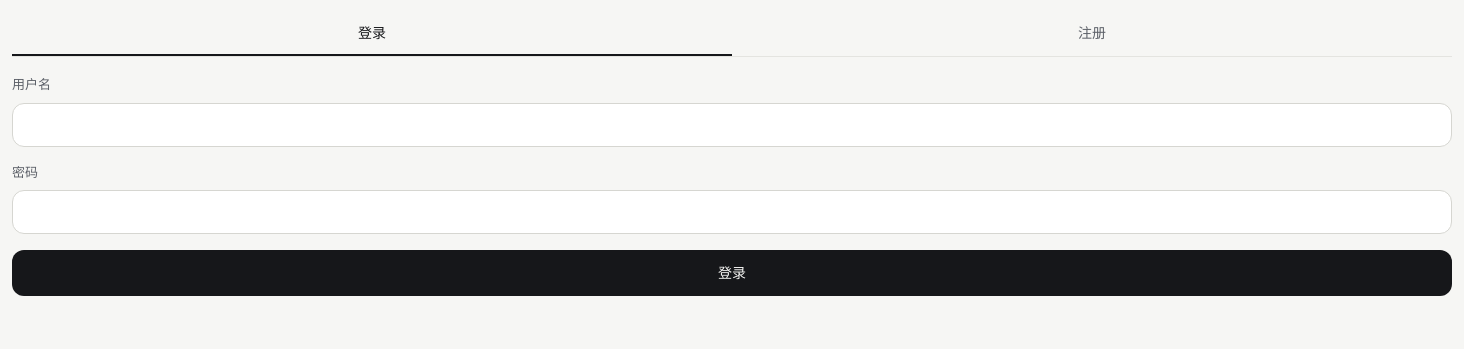
Test: shared login/register form › validates has space / password length before fetching
Type "has space" into the field labelled "用户名".
click(732, 124); type("has space")  # box [12,102,1452,146]
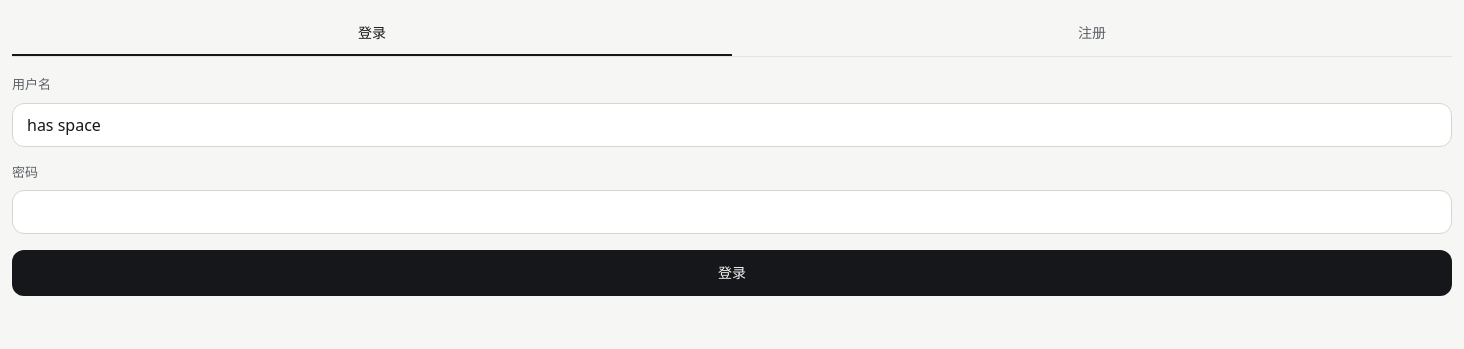
Type "12345678" into the password field labelled "密码".
click(732, 212); type("12345678")  # box [12,190,1452,234]
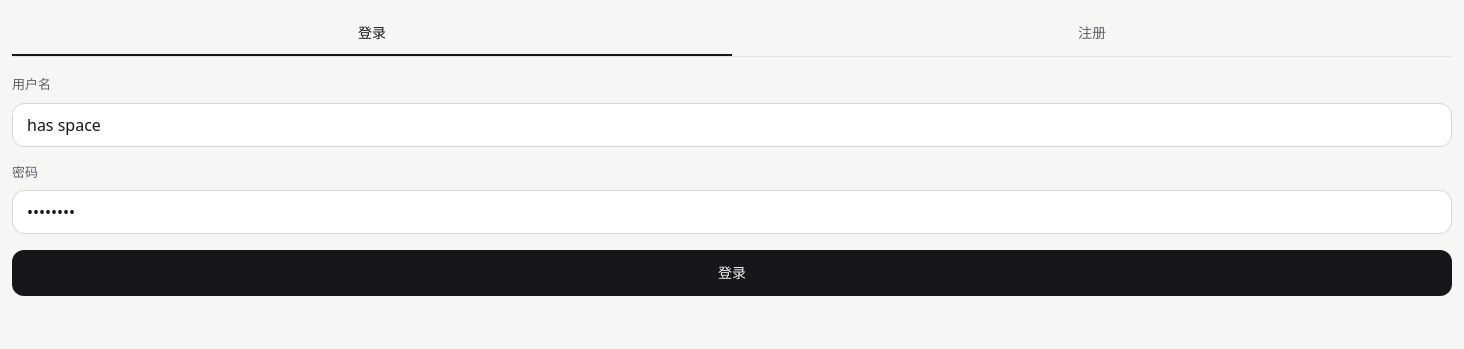
Click the button "登录".
click(732, 273)  # box [12,250,1452,296]
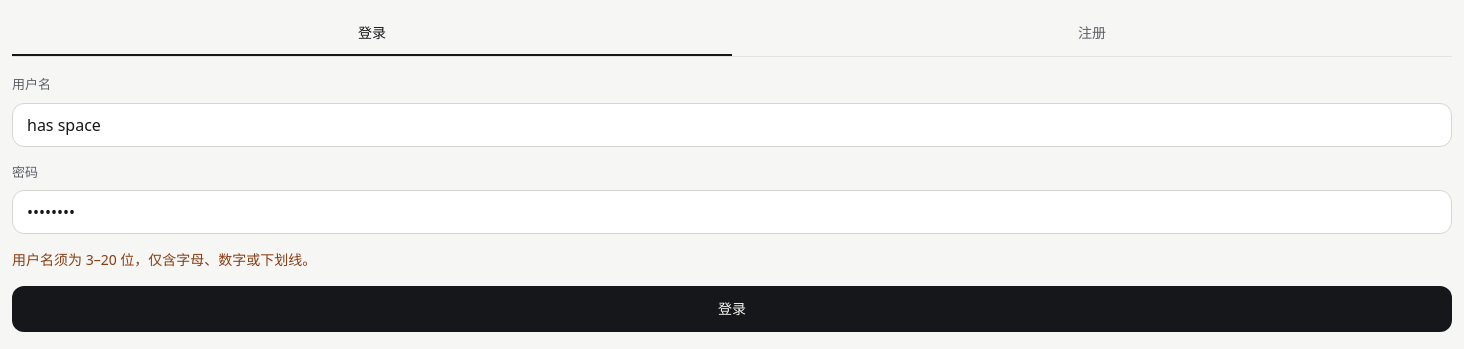
Now the message shows "用户名", box [12,250,316,269]
